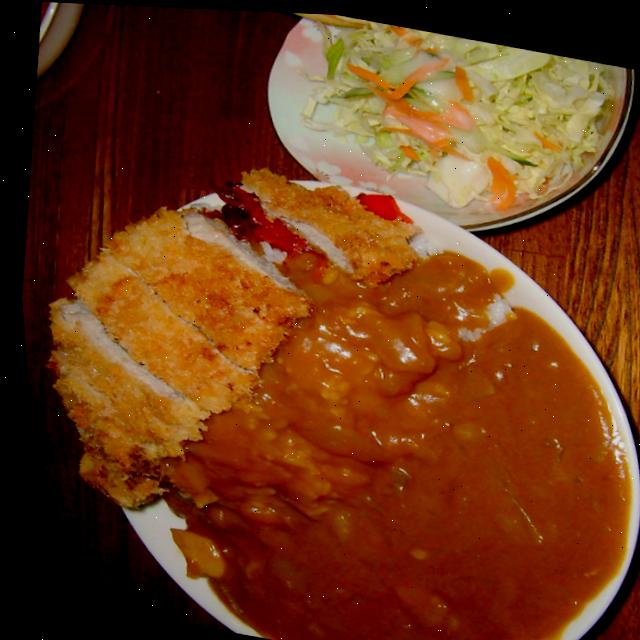猪肉菜式: (7, 116, 640, 640)
